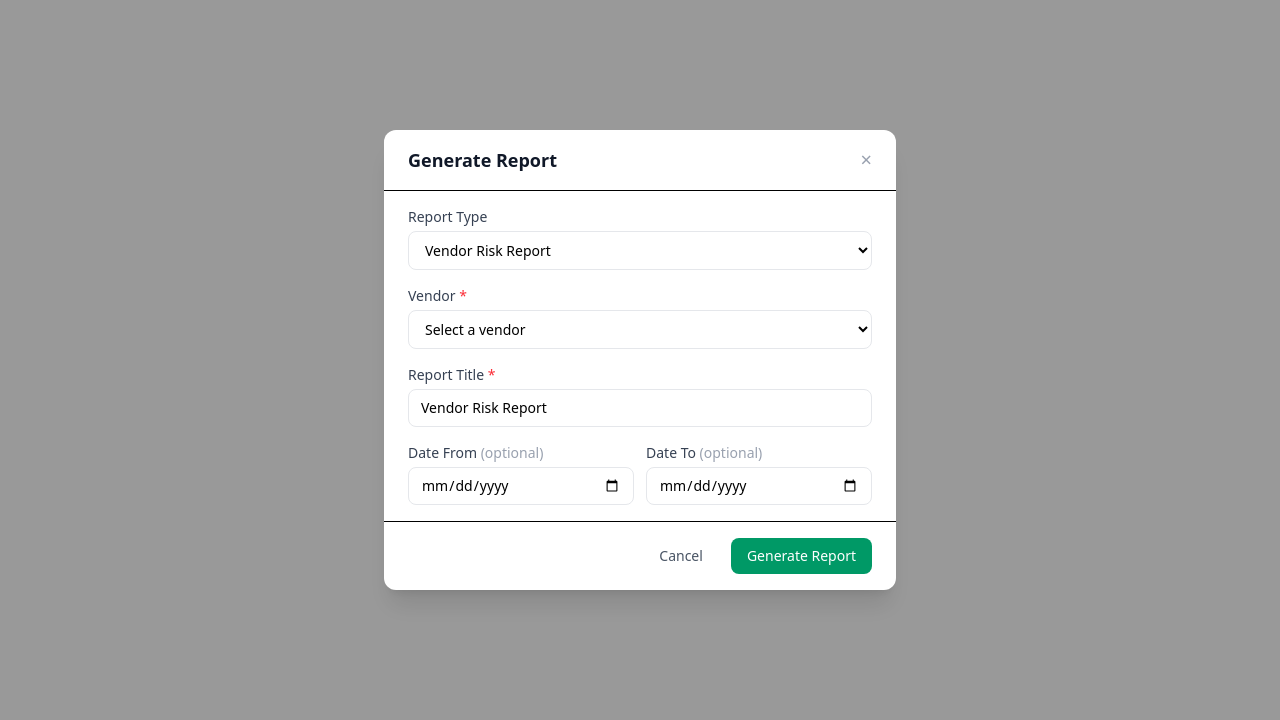
Test: GenerateReportModal › shows validation error when vendor is missing for vendor_risk
Click the button "Generate Report" at (801, 556), box x1=731 y1=538 x2=872 y2=574
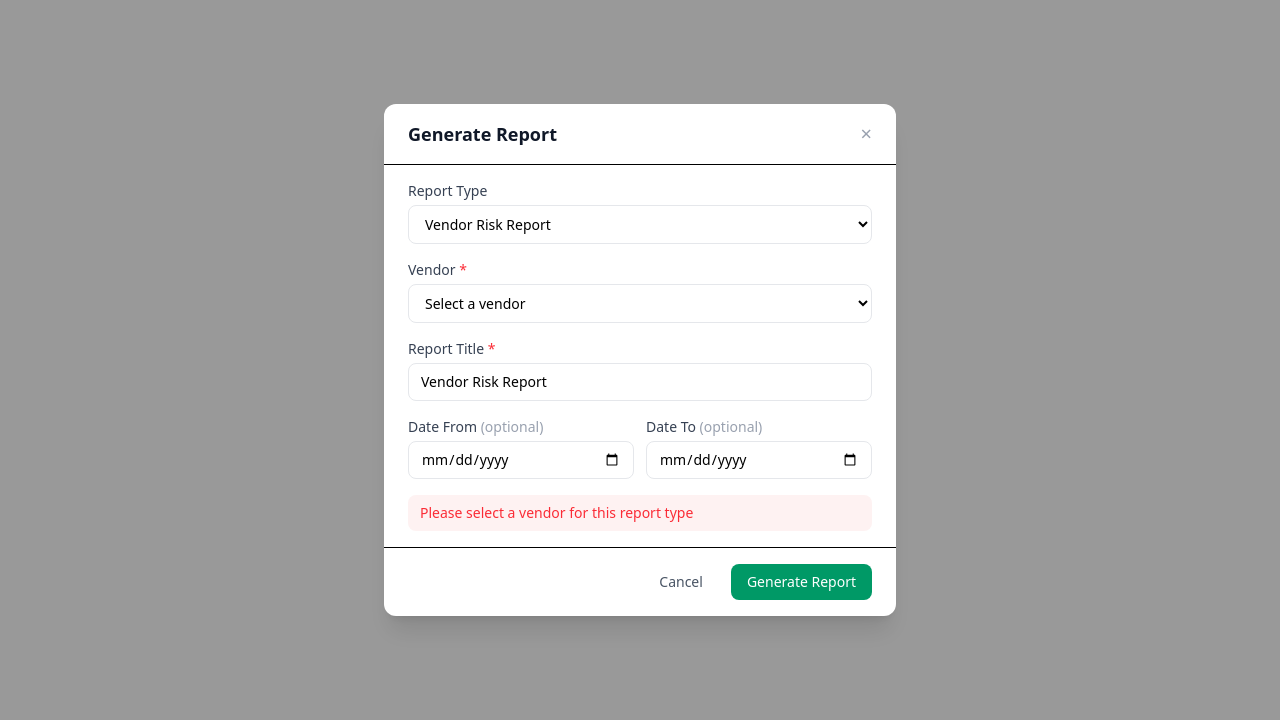
Now the text "Please select a vendor for this report type" is shown, box x1=408 y1=495 x2=872 y2=531
